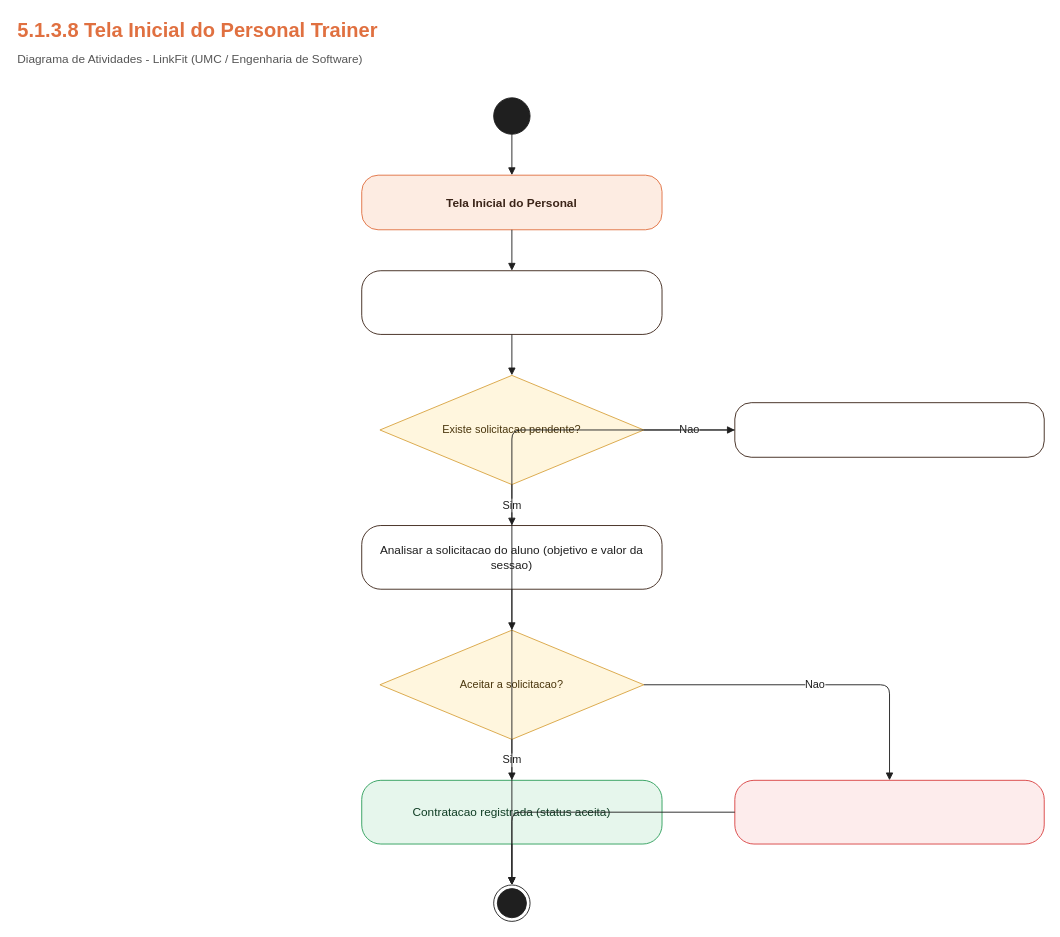
The diagram is 1060 pixels wide and 937 high, and some of its shapes have lost their labels. Each missing label, with the centre of its shape:
Carregar as solicitacoes de contratacao: the point at 511,302
Exibir 'Nenhuma solicitacao pendente': the point at 889,429
Solicitacao recusada (status recusada): the point at 889,811
